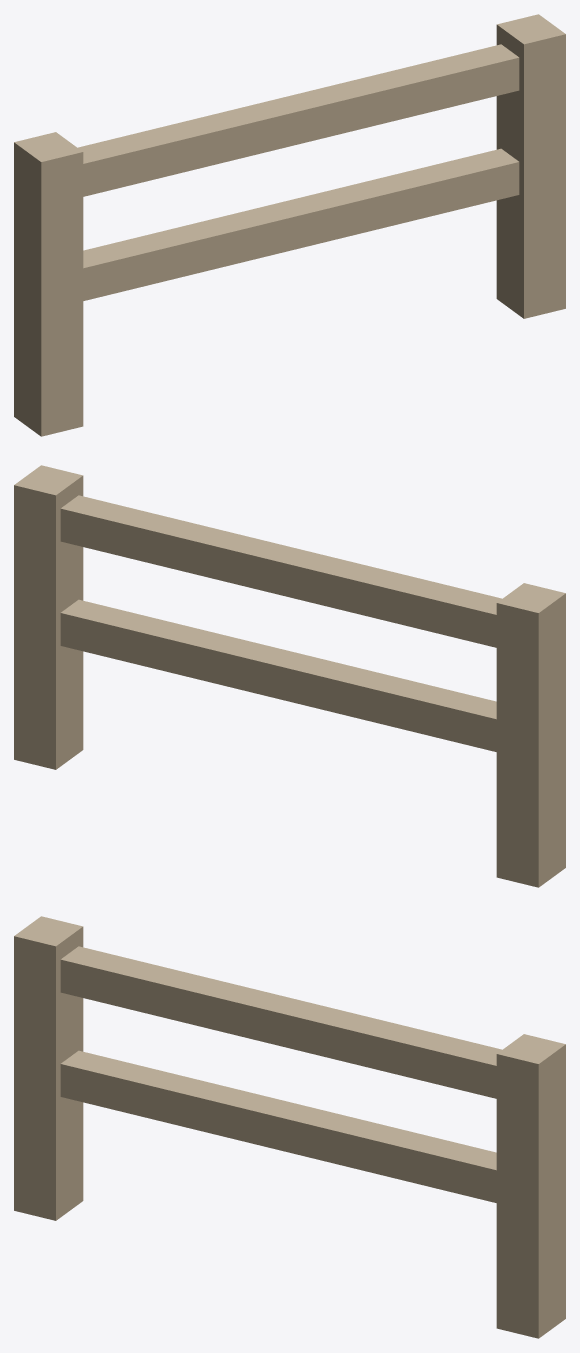
File: alc_rail_straight.glb
3 renders of one model, top to bottom at view 1: azimuth 30°, elevation 25°; view 2: azimuth 150°, elevation 25°; view 3: azimuth 330°, elevation 25°, orthographic.
Parts seen in each view (by area): view 1: alc_rail_straight; view 2: alc_rail_straight; view 3: alc_rail_straight.
Boxes of the visible parts, left/top/right/bottom form: alc_rail_straight: left=14, top=14, right=565, bottom=436; alc_rail_straight: left=14, top=465, right=565, bottom=887; alc_rail_straight: left=14, top=916, right=565, bottom=1338.
Bounding box in the file's own units: 2 × 1 × 0.18.
